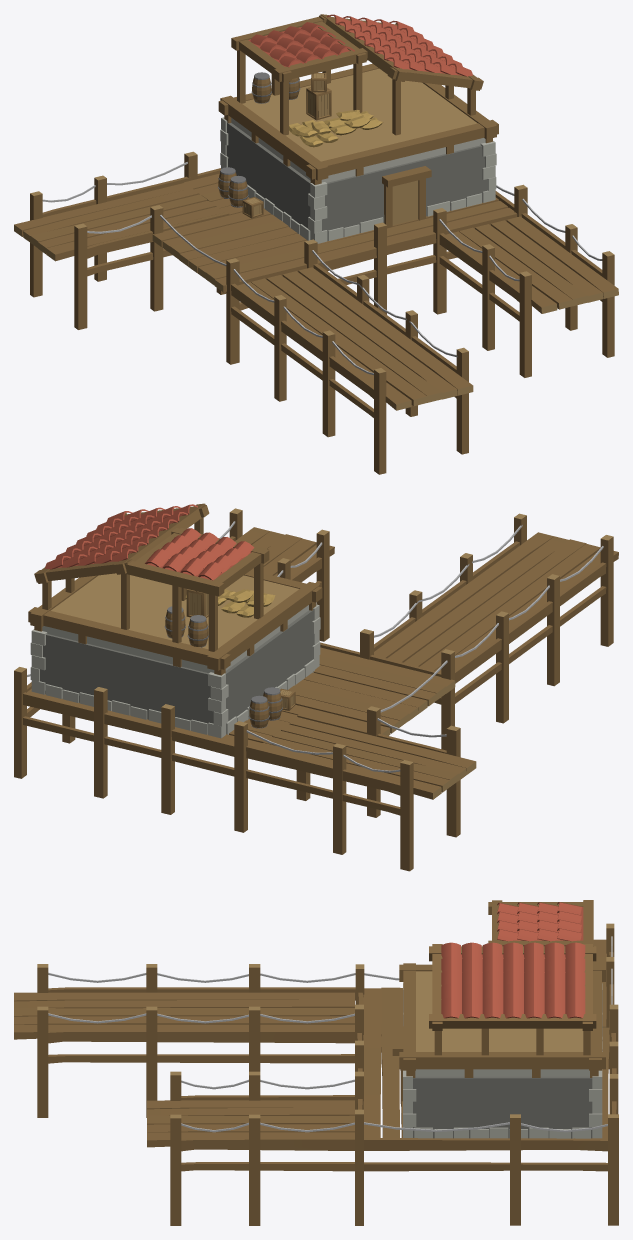
File: docks.glb
3 renders of one model, top to bottom at view 1: azimuth 30°, elevation 25°; view 2: azimuth 150°, elevation 25°; view 3: azimuth 270°, elevation 25°, orthographic. The views are drawn at different scales.
Parts seen in each view (by area): view 1: Dock; view 2: Dock; view 3: Dock.
Part boxes in pixels (x1,y1,x2,y2): Dock: [14, 14, 618, 474]; Dock: [14, 503, 618, 871]; Dock: [14, 900, 618, 1225].
Bounding box in the file's own units: 2.3 × 1.25 × 2.88.
